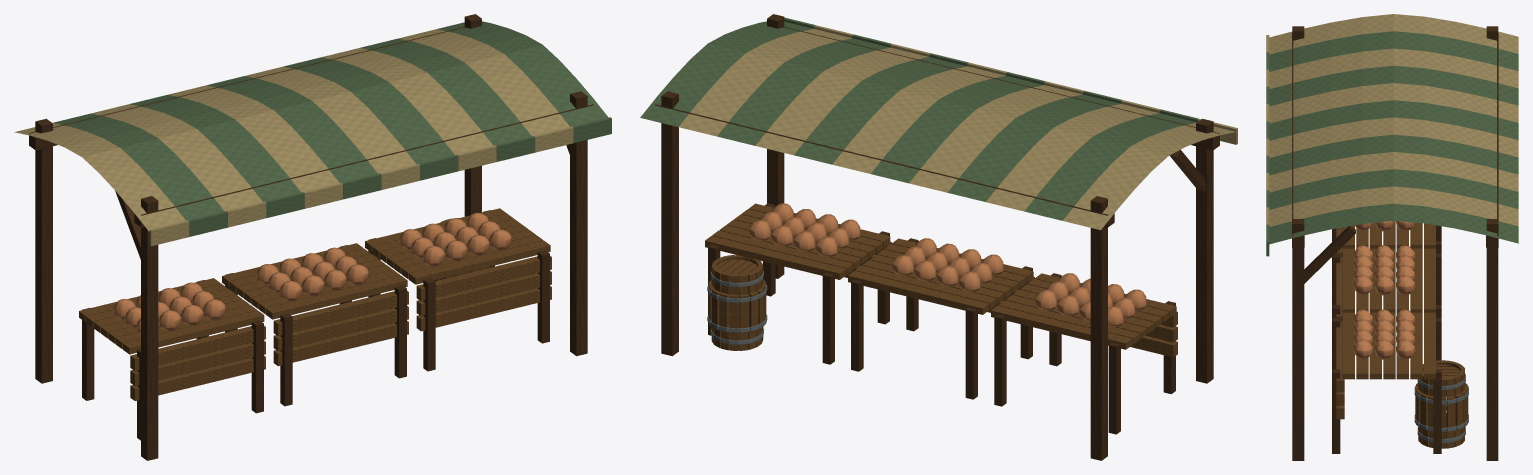
The model's file is market_stall.glb.
3 renders of one model, left to right at view 1: azimuth 30°, elevation 25°; view 2: azimuth 150°, elevation 25°; view 3: azimuth 270°, elevation 25°, orthographic. The views are drawn at different scales.
Parts seen in each view (by area): view 1: market_stall; view 2: market_stall; view 3: market_stall.
Boxes of the visible parts, x1,y1,x2,y2 form: market_stall: [14, 14, 611, 460]; market_stall: [640, 14, 1237, 460]; market_stall: [1266, 14, 1518, 460].
Bounding box in the file's own units: 5.8 × 3.2 × 2.99.
Materials: 6 (4 with a texture image).
